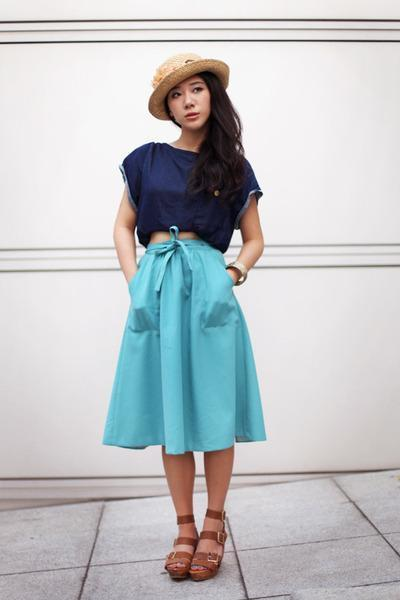hat: (148, 40, 227, 126)
shirt: (120, 142, 262, 251)
shoe: (161, 509, 236, 582)
skirt: (103, 228, 265, 453)
